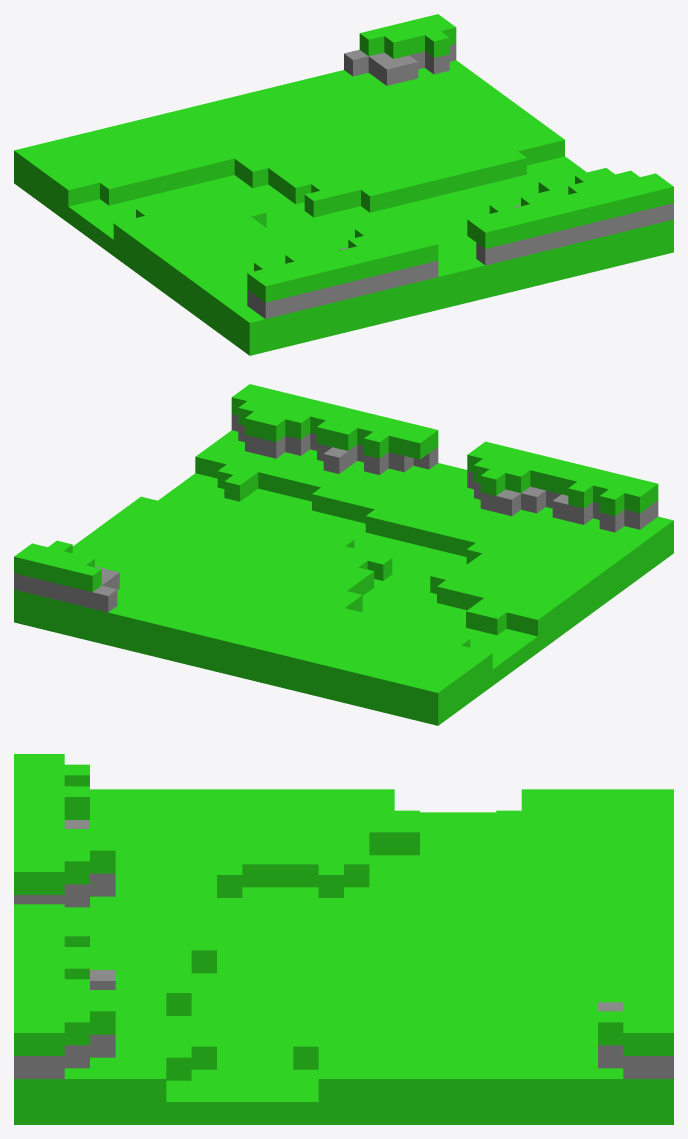
Rendered from Terrain.FBX.
3 views of the same model, one above another, from view 1: azimuth 30°, elevation 25°; view 2: azimuth 150°, elevation 25°; view 3: azimuth 270°, elevation 25° (orthographic). The views are drawn at different scales.
Visible parts, largest first — view 1: Bloc_uv2, Couche-1, Bloc_Uv003, Couche1, Couche004, Couche006; view 2: Bloc_uv2, Couche-1, Bloc_Uv003, Couche004, Couche1, Couche006; view 3: Bloc_uv2, Couche-1, Bloc_Uv003, Couche1, Couche006, Couche004.
Part boxes in pixels (x1=…): Bloc_uv2: x1=14, y1=60, x2=673, y2=339; Couche-1: x1=14, y1=156, x2=673, y2=355; Bloc_Uv003: x1=247, y1=14, x2=673, y2=302; Couche1: x1=476, y1=203, x2=673, y2=265; Couche004: x1=247, y1=247, x2=438, y2=318; Couche006: x1=344, y1=44, x2=456, y2=85; Bloc_uv2: x1=14, y1=430, x2=673, y2=709; Couche-1: x1=14, y1=473, x2=673, y2=725; Bloc_Uv003: x1=14, y1=384, x2=658, y2=592; Couche004: x1=467, y1=471, x2=658, y2=532; Couche1: x1=231, y1=414, x2=438, y2=474; Couche006: x1=14, y1=566, x2=119, y2=612; Bloc_uv2: x1=14, y1=789, x2=673, y2=1101; Couche-1: x1=14, y1=812, x2=673, y2=1124; Bloc_Uv003: x1=14, y1=754, x2=673, y2=1055; Couche1: x1=14, y1=970, x2=115, y2=1078; Couche006: x1=598, y1=1002, x2=673, y2=1078; Couche004: x1=14, y1=820, x2=115, y2=907.
Bounding box in the file's own units: 2700 × 400 × 2600.
